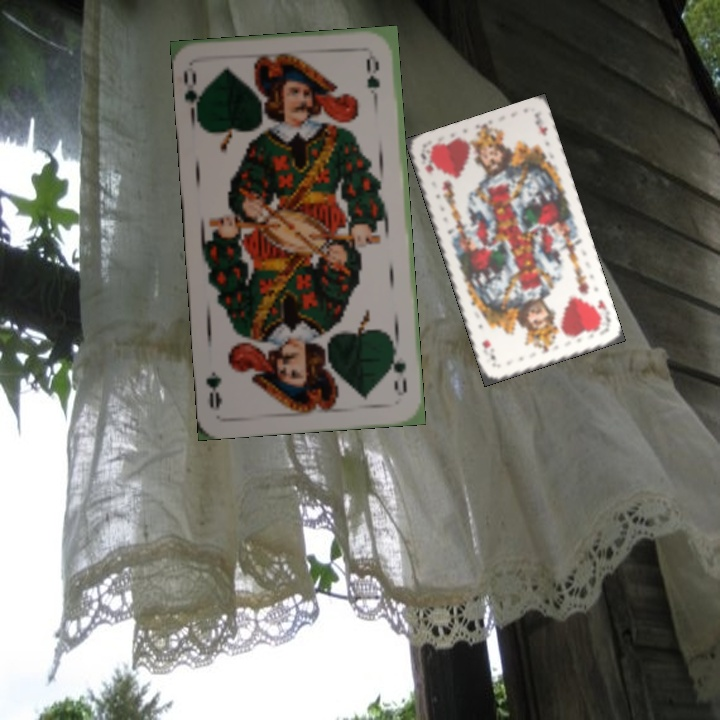GO: (179, 64, 207, 124), (386, 341, 410, 395)
HK: (589, 296, 613, 331), (417, 148, 437, 176)
